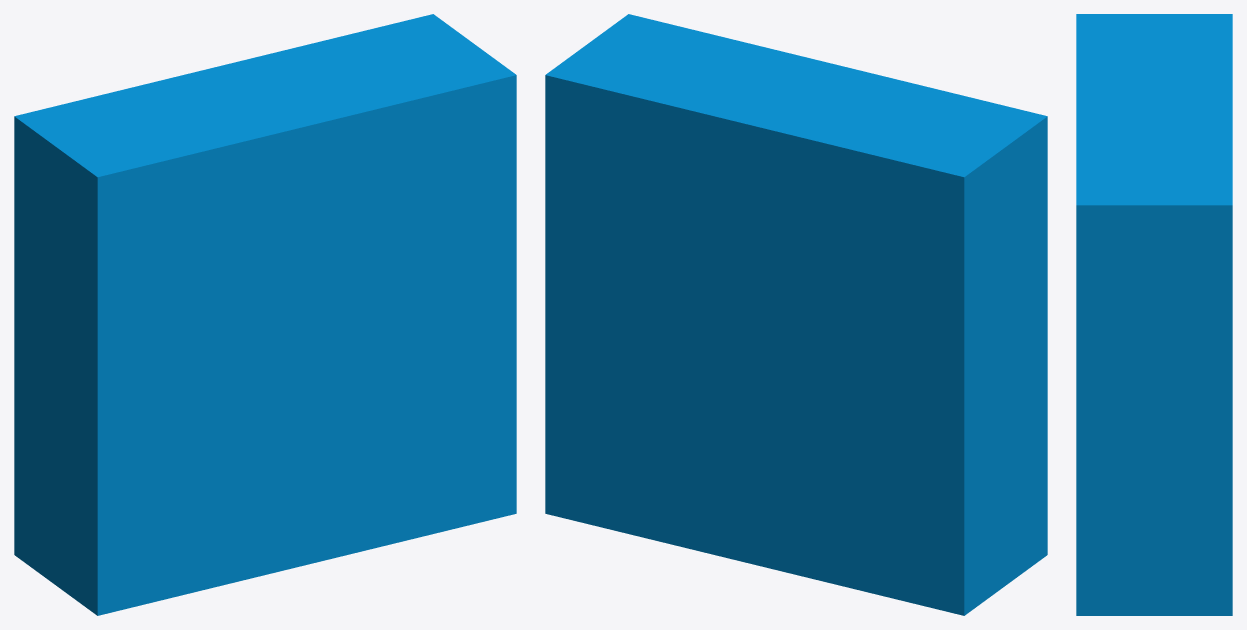
The picture shows the model from 3 angles, left to right: view 1: azimuth 30°, elevation 25°; view 2: azimuth 150°, elevation 25°; view 3: azimuth 270°, elevation 25°; orthographic projection. The views are drawn at different scales.
Parts seen in each view (by area): view 1: Cube; view 2: Cube; view 3: Cube.
Boxes of the visible parts, bbox=[...] form: Cube: bbox=[14, 14, 516, 615]; Cube: bbox=[545, 14, 1047, 615]; Cube: bbox=[1076, 14, 1232, 615].
Bounding box in the file's own units: 20 × 20 × 6.89.
